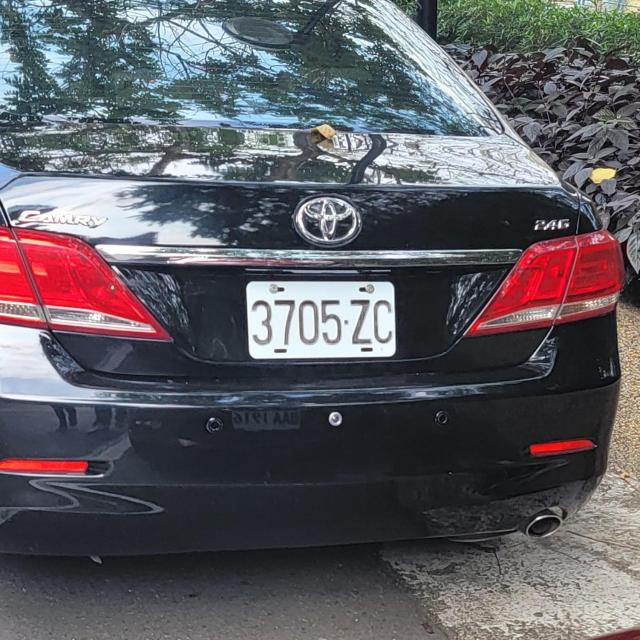W: (243, 277, 399, 360)
